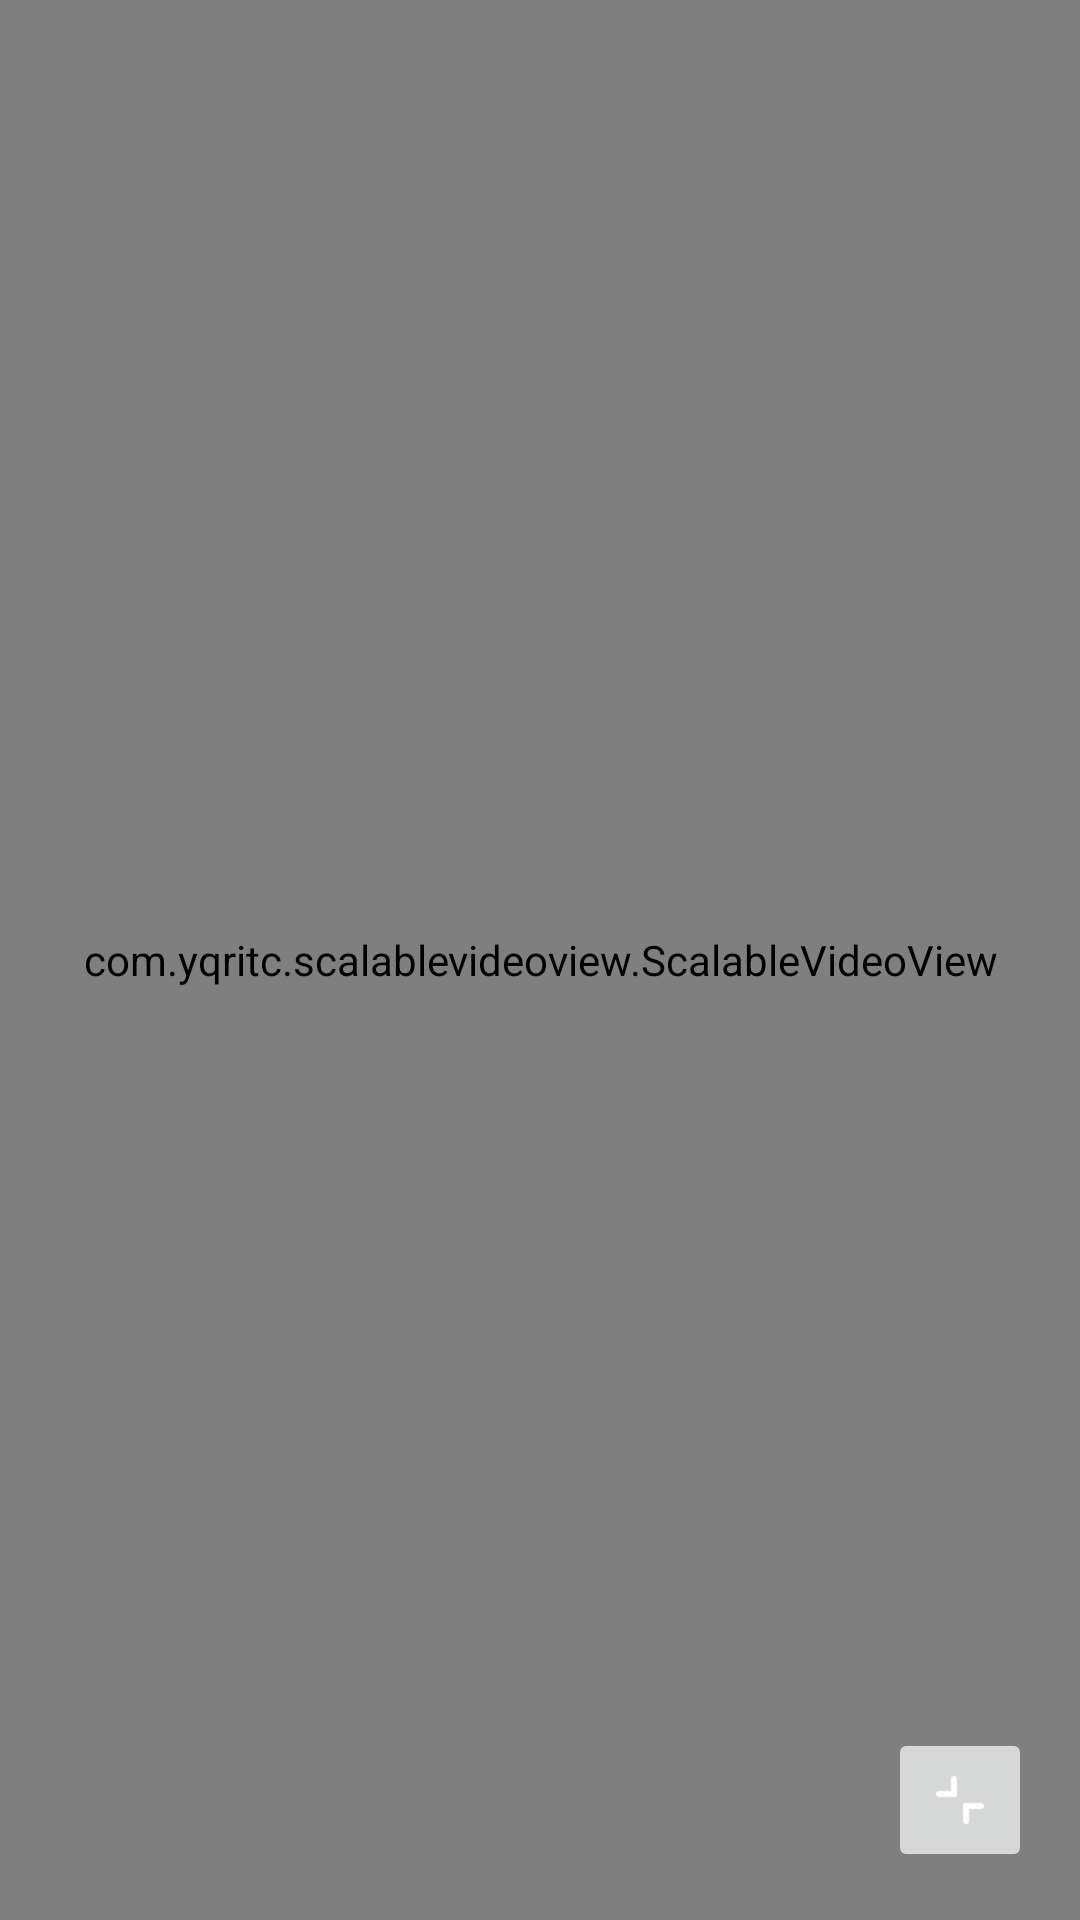

Icon bounding boxes for this 1080w x 1920h phone screenshot, format (x1, y1, x2, y2):
collapse screen: (900, 1746, 1020, 1854)
